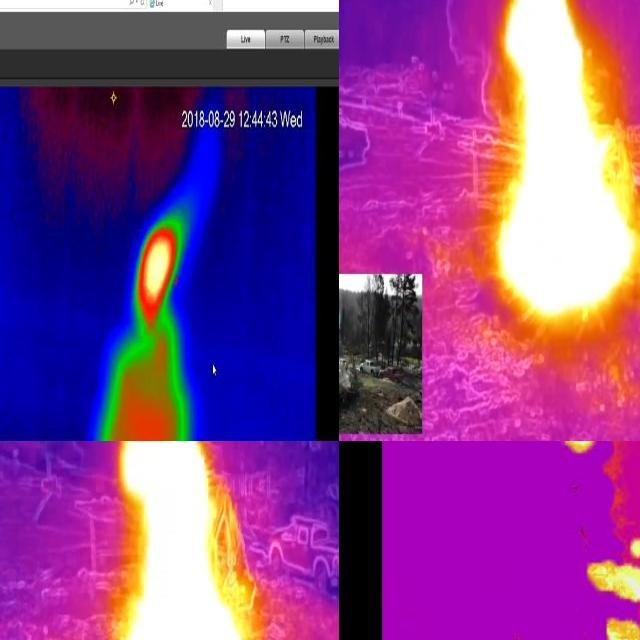fire: (497, 1, 637, 327), (114, 442, 254, 640), (133, 202, 197, 332), (571, 535, 640, 640), (559, 442, 599, 465)
